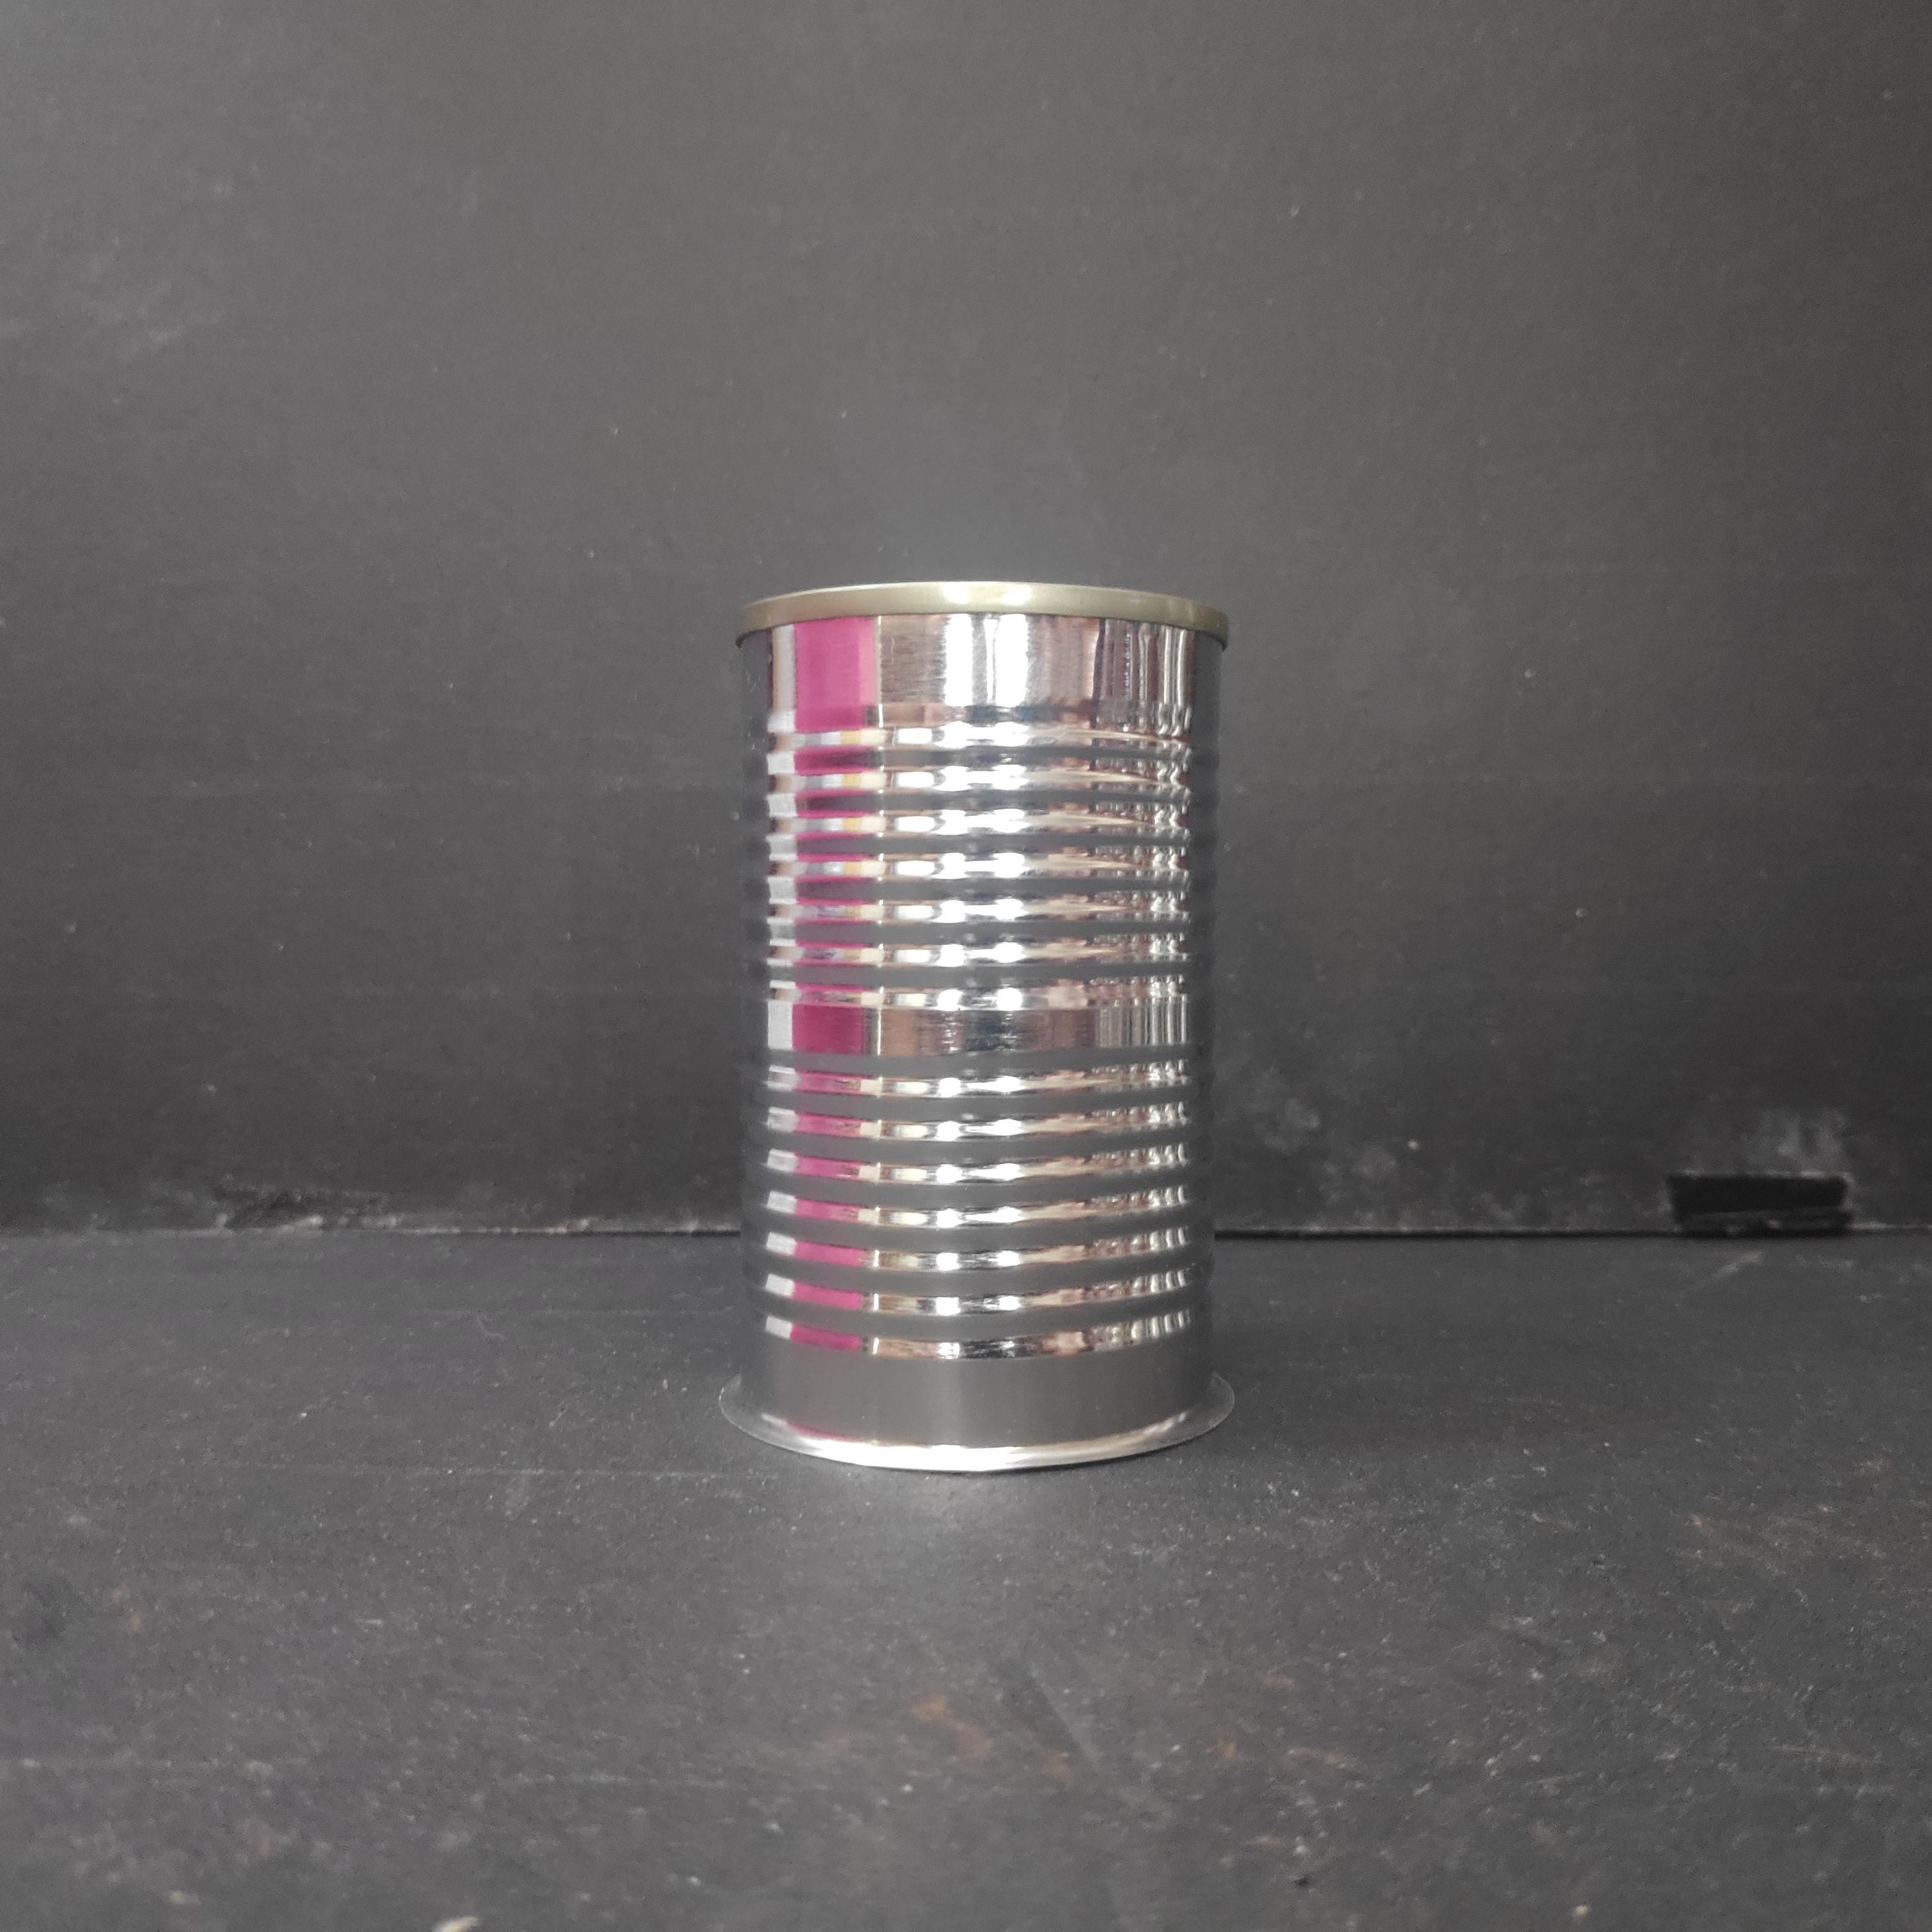No defect: (716, 581, 1238, 1473)
